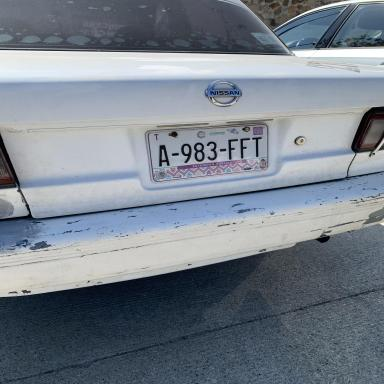License_Plate: (138, 120, 277, 182)
